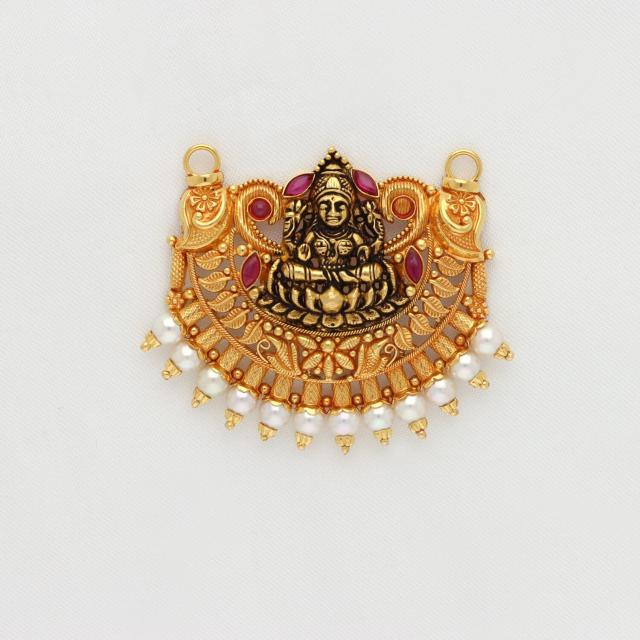missing gem: (392, 197, 415, 219)
